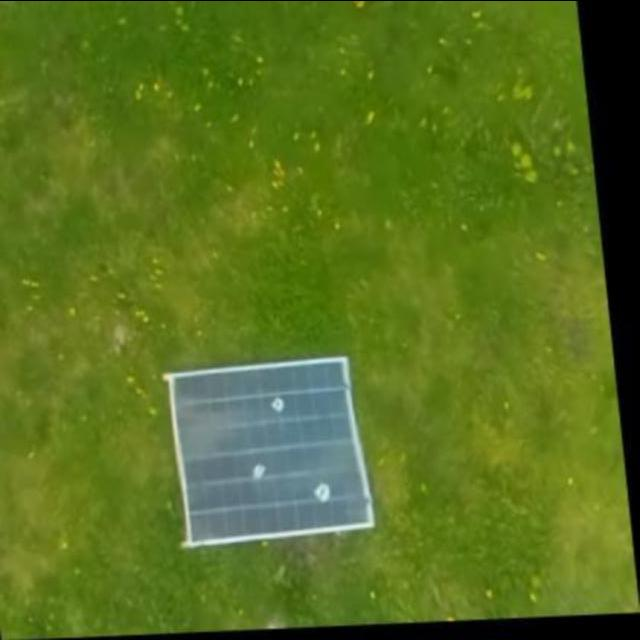soiled: (172, 352, 374, 546)
